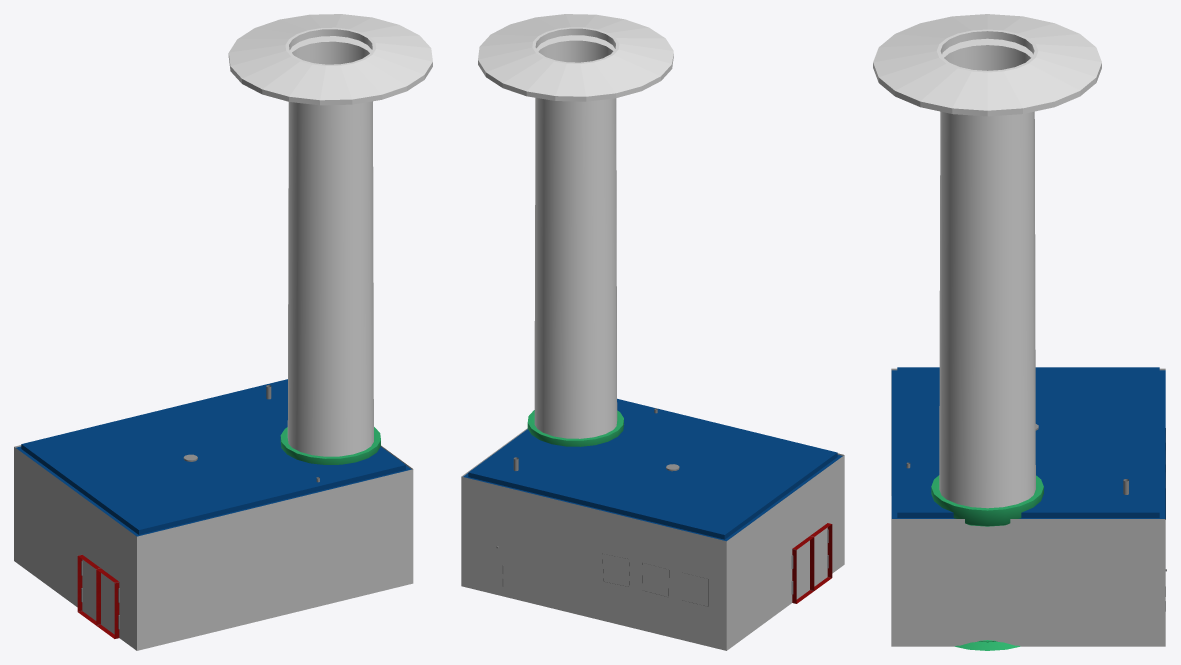
The model's file is Allroomtest.FBX.
The picture shows the model from 3 angles, left to right: view 1: azimuth 30°, elevation 25°; view 2: azimuth 150°, elevation 25°; view 3: azimuth 270°, elevation 25°; orthographic projection. The views are drawn at different scales.
Visible parts, largest first — view 1: Box001, Object006, Object003, Box005, Cylinder006; view 2: Box001, Object006, Object003, Box005, Cylinder006; view 3: Object006, Box001, Object003, Cylinder006.
Boxes of the visible parts, bbox=[...] form: Box001: bbox=[14, 445, 413, 650]; Object006: bbox=[228, 14, 432, 456]; Object003: bbox=[16, 379, 411, 536]; Box005: bbox=[77, 554, 119, 638]; Cylinder006: bbox=[280, 427, 380, 464]; Box001: bbox=[461, 428, 844, 650]; Object006: bbox=[478, 14, 673, 438]; Object003: bbox=[463, 398, 842, 541]; Box005: bbox=[791, 523, 832, 603]; Cylinder006: bbox=[527, 410, 623, 446]; Object006: bbox=[873, 14, 1101, 508]; Box001: bbox=[891, 368, 1165, 646]; Object003: bbox=[891, 367, 1165, 518]; Cylinder006: bbox=[931, 475, 1043, 650].
Bounding box in the file's own units: 16.74 × 24.9 × 11.55.
